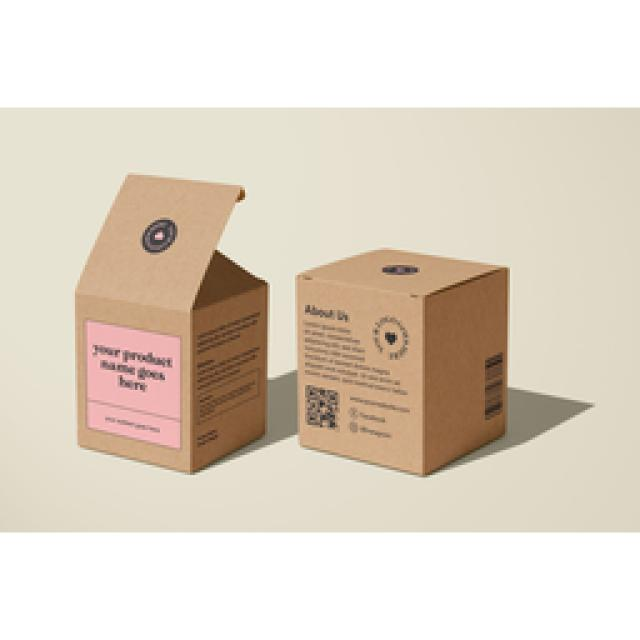cardboard: (74, 171, 269, 475), (297, 247, 510, 477)
